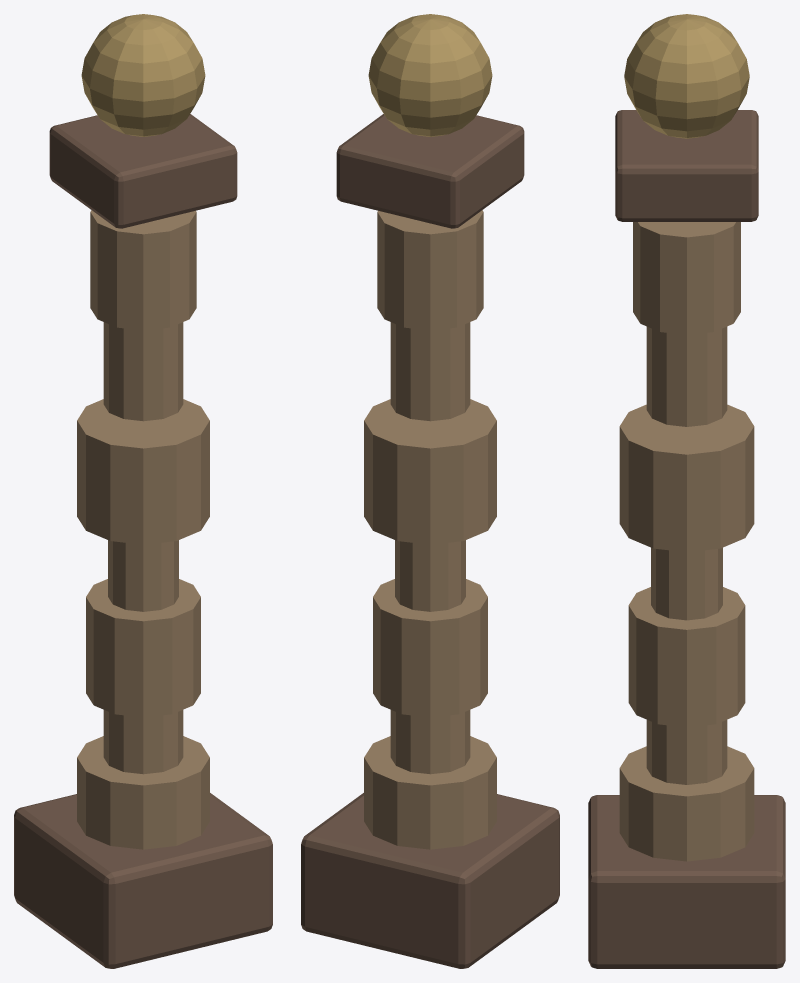
3 views of the same model, side by side, from view 1: azimuth 30°, elevation 25°; view 2: azimuth 150°, elevation 25°; view 3: azimuth 270°, elevation 25° (orthographic).
Visible parts, largest first — view 1: newelPost; view 2: newelPost; view 3: newelPost.
Boxes of the visible parts, x1,y1,x2,y2 form: newelPost: (14,14,272,968); newelPost: (301,14,559,968); newelPost: (588,14,785,968).
Bounding box in the file's own units: 0.22 × 1.12 × 0.22.
